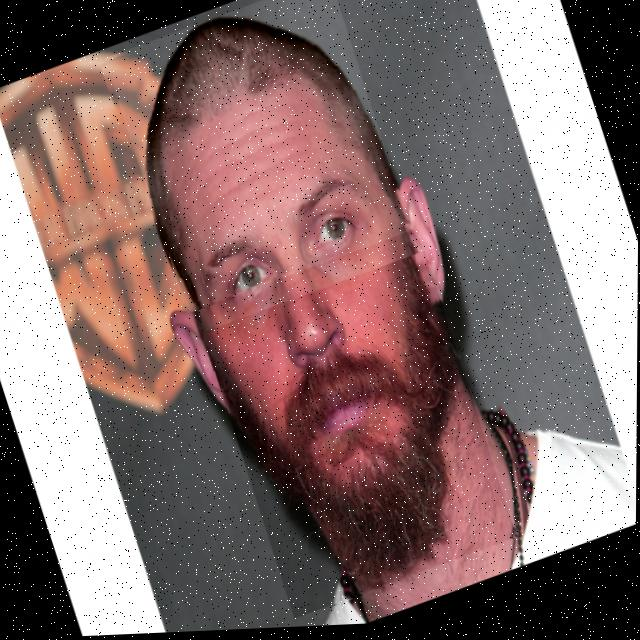beard: (212, 261, 473, 592)
hair: (147, 19, 398, 310)
